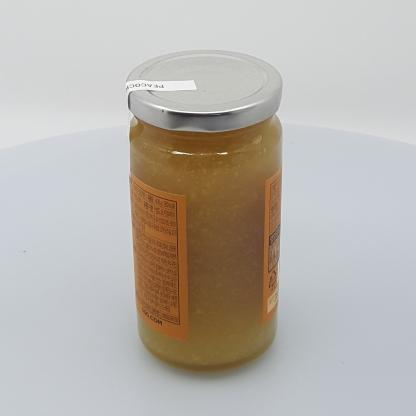--------------400G: (125, 50, 282, 372)
